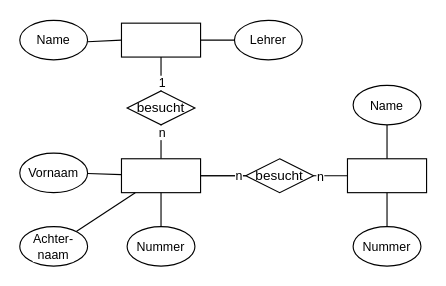
The diagram is 446 pixels wide and 286 high, and some of its shapes have lost their labels. The centre of each missing label's shape, as x and y in pixels:
Klasse: (x=160, y=39)
Lernangebot: (x=386, y=175)
Schüler: (x=160, y=175)
